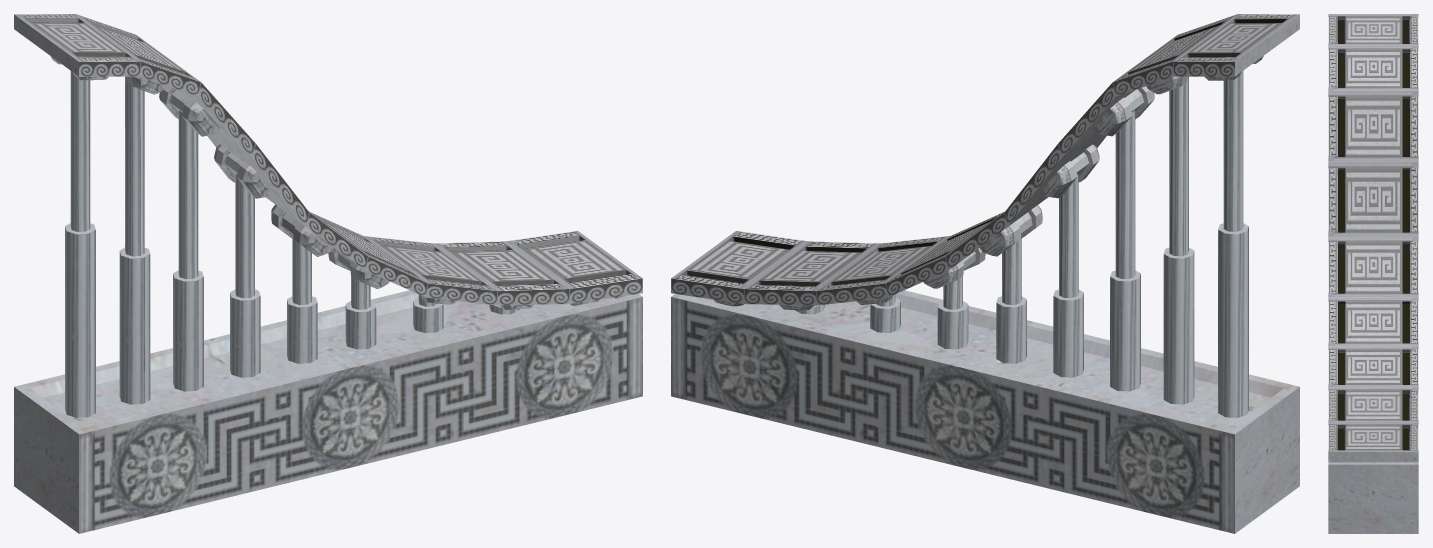
Rendered from Ramp3_Set2.fbx.
3 renders of one model, left to right at view 1: azimuth 30°, elevation 25°; view 2: azimuth 150°, elevation 25°; view 3: azimuth 270°, elevation 25°, orthographic. The views are drawn at different scales.
Visible parts, largest first — view 1: Ramp3_Set2; view 2: Ramp3_Set2; view 3: Ramp3_Set2.
Boxes of the visible parts, <box> form: Ramp3_Set2: <box>14,14,642,533</box>; Ramp3_Set2: <box>671,14,1299,533</box>; Ramp3_Set2: <box>1328,14,1418,533</box>.
Bounding box in the file's own units: 5 × 4 × 1.
